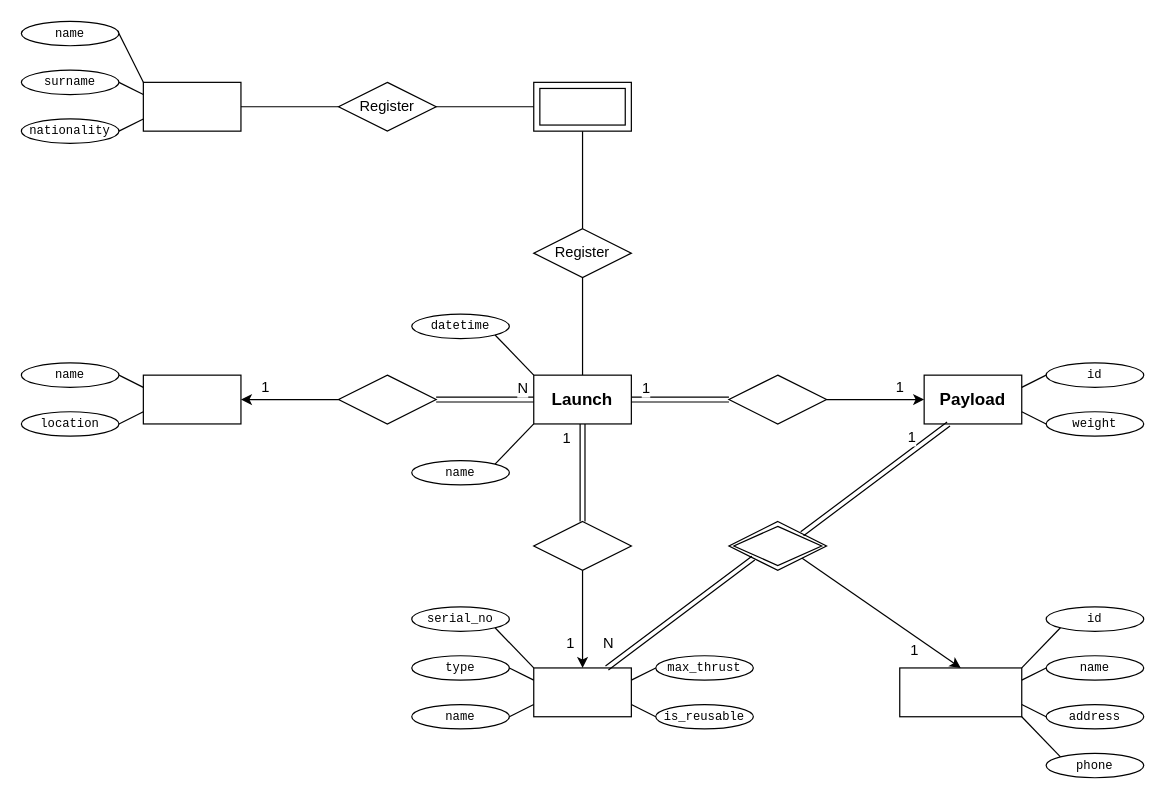
The diagram is 1165 pixels wide and 799 high, and some of its shapes have lost their labels. Here are the shapes that lost their labels. From the top down, the centre of each, then its label:
At (x=191, y=106): "Crew".
At (x=582, y=106): "Mission".
At (x=191, y=399): "Launchpad".
At (x=386, y=399): "Hosted".
At (x=777, y=399): "Carries".
At (x=582, y=545): "Performed".
At (x=777, y=545): "Made".
At (x=582, y=692): "Rocket".
At (x=960, y=692): "Manufacturer".
